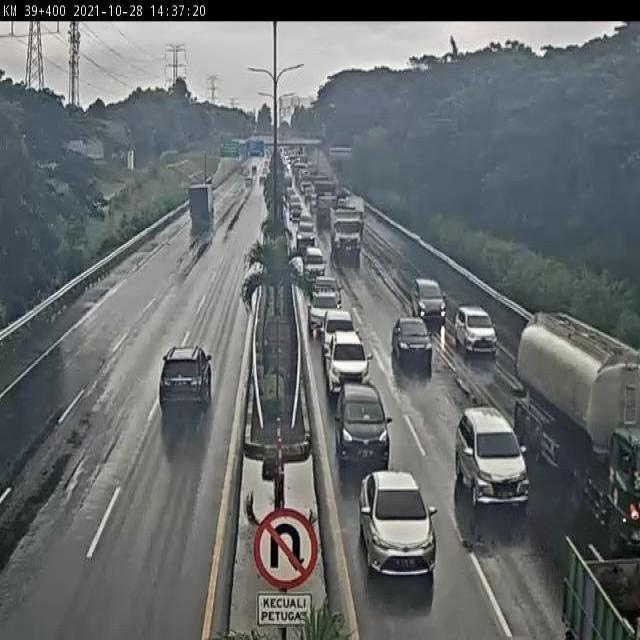big truck: (509, 306, 640, 522), (537, 504, 640, 640), (327, 202, 366, 262), (188, 185, 215, 227)
car: (359, 468, 436, 576), (447, 391, 518, 497), (335, 381, 391, 468), (157, 348, 212, 411), (327, 331, 374, 397), (448, 297, 499, 353), (390, 316, 432, 369), (306, 288, 343, 340), (407, 274, 445, 322), (324, 309, 358, 351), (312, 273, 343, 312), (301, 244, 329, 283), (293, 220, 317, 245)
